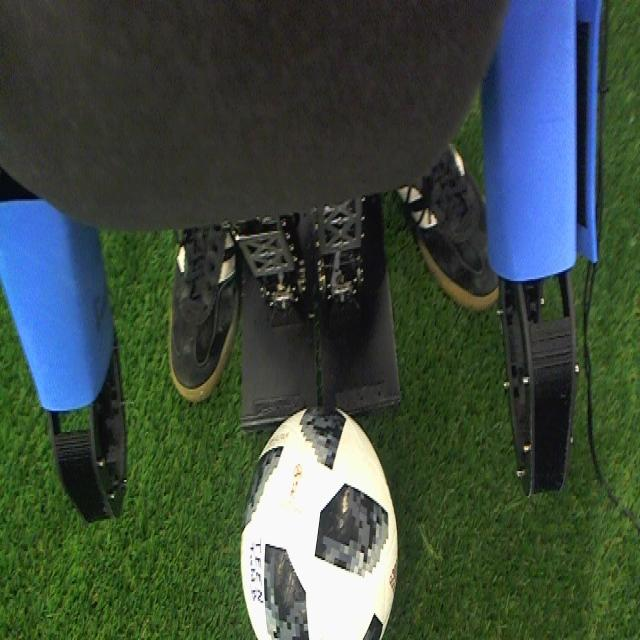ball: (239, 402, 400, 638)
